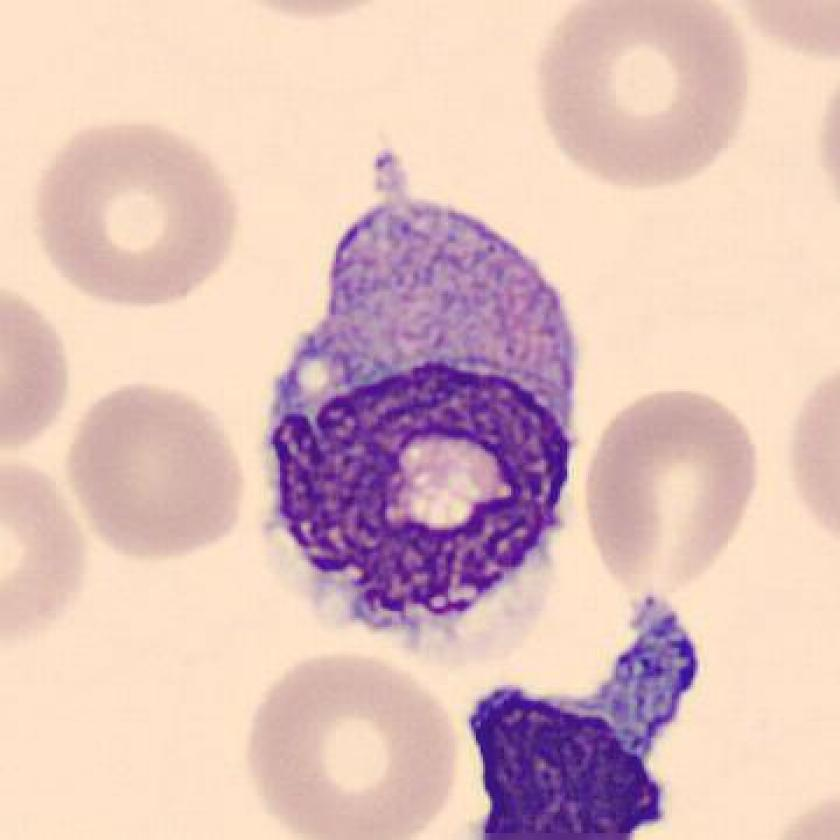monocyte: (237, 133, 605, 684)
